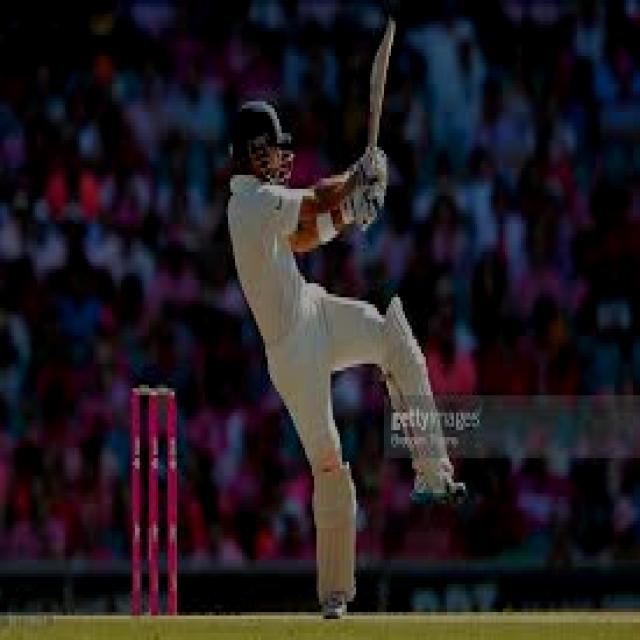toe: (380, 12, 400, 50)
